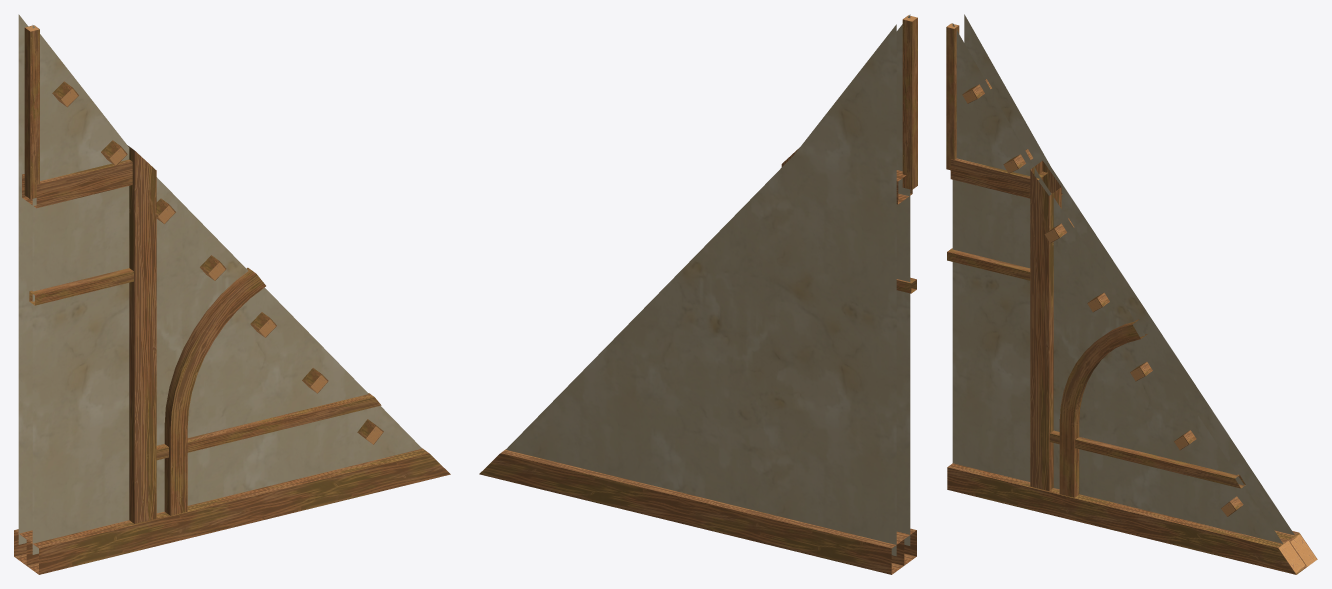
File: Roof_Front_Brick8_Half_R.gltf
The picture shows the model from 3 angles, left to right: view 1: azimuth 30°, elevation 25°; view 2: azimuth 150°, elevation 25°; view 3: azimuth 330°, elevation 25°; orthographic projection. The views are drawn at different scales.
Visible parts, largest first — view 1: Roof_Front_Brick8_Half_R; view 2: Roof_Front_Brick8_Half_R; view 3: Roof_Front_Brick8_Half_R.
Boxes of the visible parts, box(x1,y1,x2,y2) form: Roof_Front_Brick8_Half_R: box(14, 14, 450, 574); Roof_Front_Brick8_Half_R: box(479, 14, 917, 574); Roof_Front_Brick8_Half_R: box(946, 14, 1317, 574).
Bounding box in the file's own units: 4.35 × 5.45 × 0.4896.
2 materials, 2 textured.
